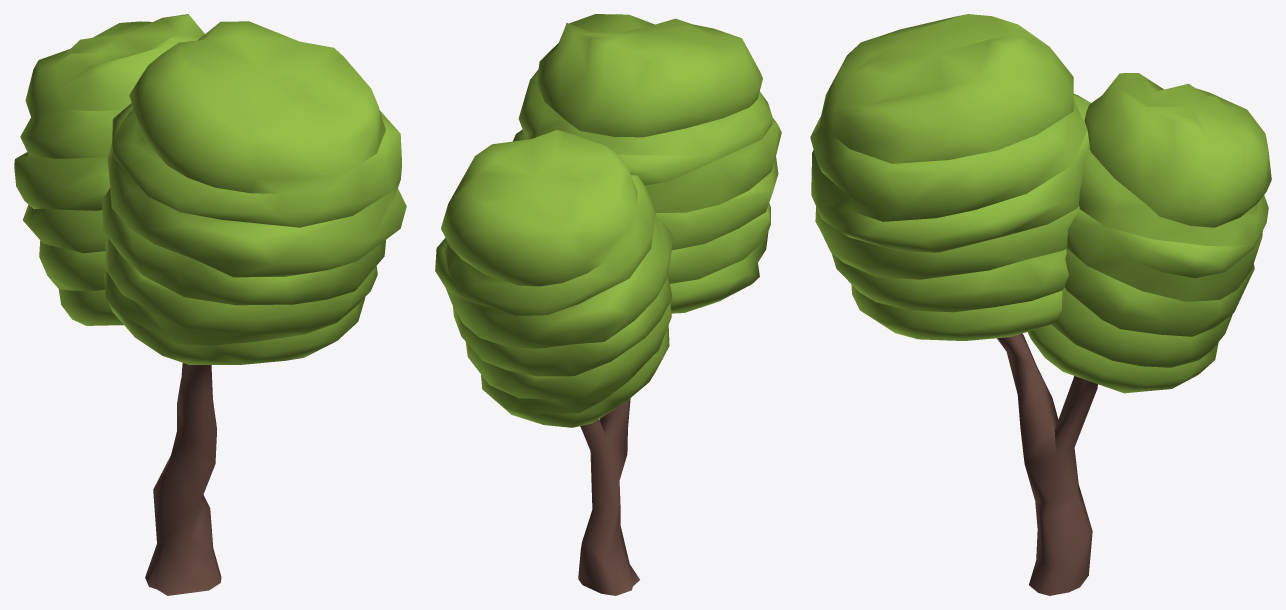
File: fabulous_tree_017.glb
The picture shows the model from 3 angles, left to right: view 1: azimuth 30°, elevation 25°; view 2: azimuth 150°, elevation 25°; view 3: azimuth 270°, elevation 25°; orthographic projection. The views are drawn at different scales.
Parts seen in each view (by area): view 1: fabulous_tree_017; view 2: fabulous_tree_017; view 3: fabulous_tree_017.
Boxes of the visible parts, x1,y1,x2,y2 form: fabulous_tree_017: (14, 14, 406, 595); fabulous_tree_017: (435, 14, 781, 595); fabulous_tree_017: (810, 14, 1271, 595).
Bounding box in the file's own units: 3.54 × 7.51 × 5.7.
Materials: 1 (1 with a texture image).
